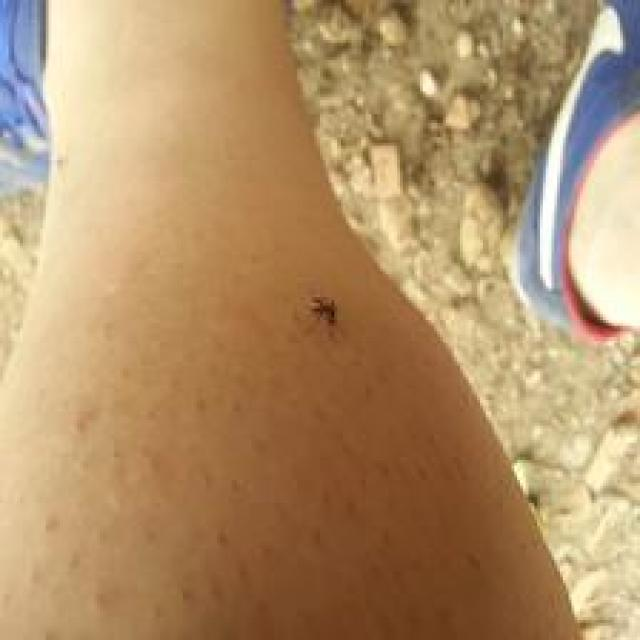Aedes albopictus: (508, 0, 640, 348)
